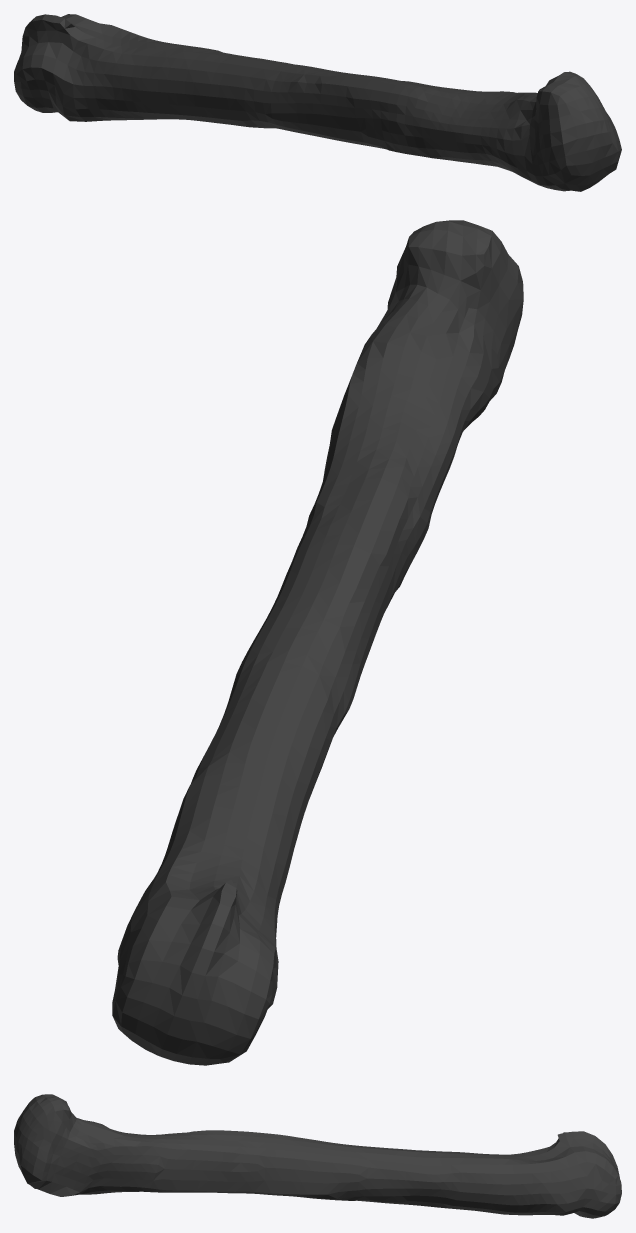
File: Metacarpal_III.glb
3 renders of one model, top to bottom at view 1: azimuth 30°, elevation 25°; view 2: azimuth 150°, elevation 25°; view 3: azimuth 270°, elevation 25°, orthographic. The views are drawn at different scales.
Parts seen in each view (by area): view 1: Metacarpal_III; view 2: Metacarpal_III; view 3: Metacarpal_III.
Part boxes in pixels (box(x1,y1,x2,y2)): Metacarpal_III: box(14, 14, 621, 191); Metacarpal_III: box(112, 220, 523, 1065); Metacarpal_III: box(14, 1094, 621, 1218).
Bounding box in the file's own units: 0.4043 × 0.342 × 1.01.
1 material, 1 textured.
